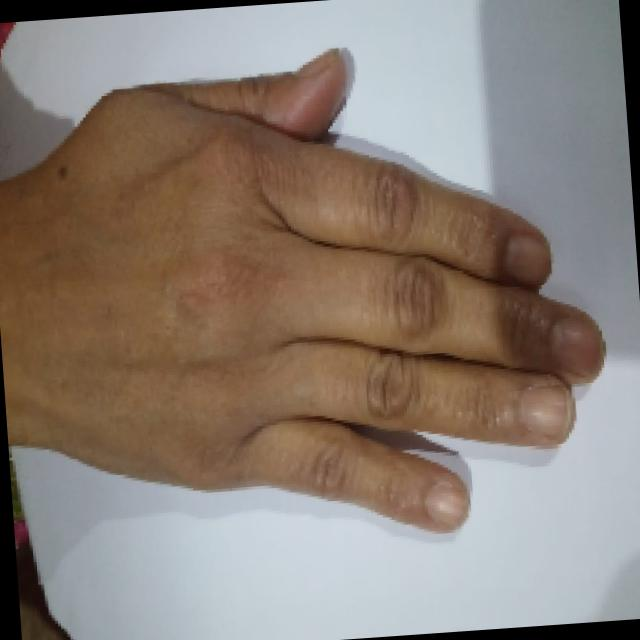Nail: (551, 312, 605, 374), (519, 383, 573, 440), (504, 234, 550, 285), (424, 479, 467, 525), (294, 46, 338, 79)
